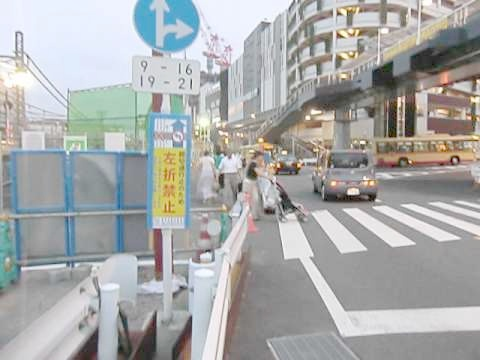Direction_sign: (132, 1, 202, 63)
